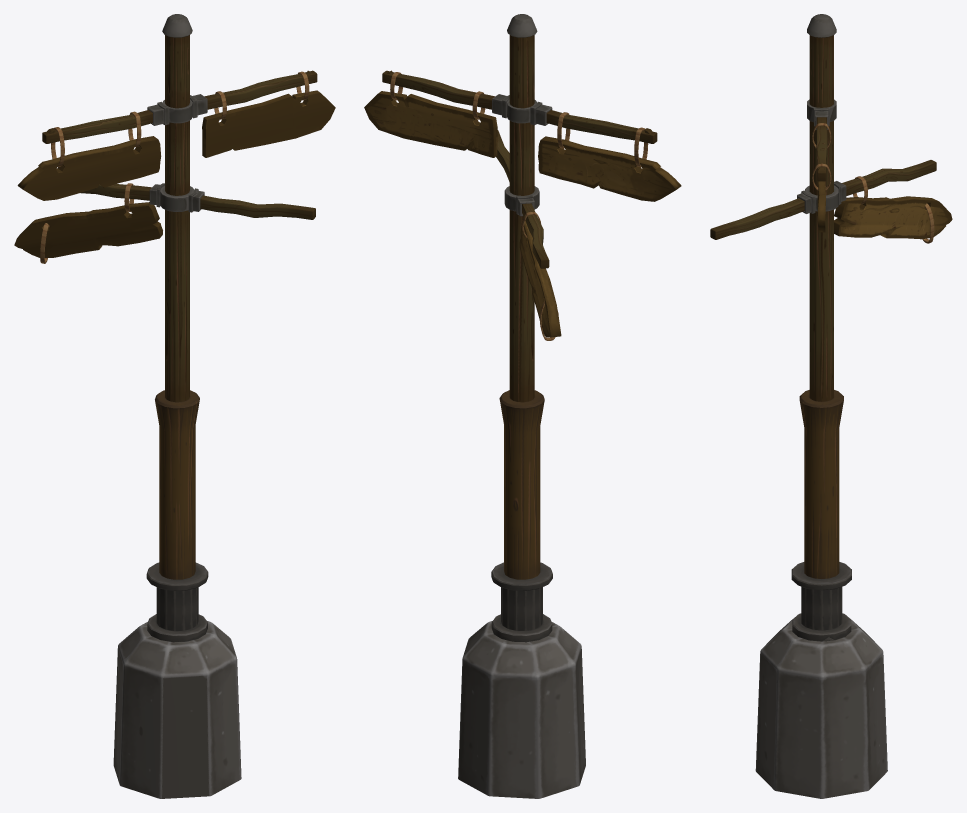
The model's file is SignPost.fbx.
3 renders of one model, left to right at view 1: azimuth 30°, elevation 25°; view 2: azimuth 150°, elevation 25°; view 3: azimuth 270°, elevation 25°, orthographic.
Visible parts, largest first — view 1: Bottom_Post1_lamb_Supports_0, Main_Post_lamb_Pole_0, Ropes1_lamb_Signs_0; view 2: Bottom_Post1_lamb_Supports_0, Main_Post_lamb_Pole_0, Ropes1_lamb_Signs_0; view 3: Bottom_Post1_lamb_Supports_0, Main_Post_lamb_Pole_0, Ropes1_lamb_Signs_0.
Boxes of the visible parts, x1,y1,x2,y2 form: Bottom_Post1_lamb_Supports_0: (42,70,317,798); Main_Post_lamb_Pole_0: (147,14,207,579); Ropes1_lamb_Signs_0: (14,71,335,263); Bottom_Post1_lamb_Supports_0: (382,70,657,798); Main_Post_lamb_Pole_0: (492,14,552,579); Ropes1_lamb_Signs_0: (364,72,681,340); Bottom_Post1_lamb_Supports_0: (710,117,936,798); Main_Post_lamb_Pole_0: (797,14,846,578); Ropes1_lamb_Signs_0: (812,123,952,243).
Size of the model in its own units: 1.81 by 1.21 by 4.17.
